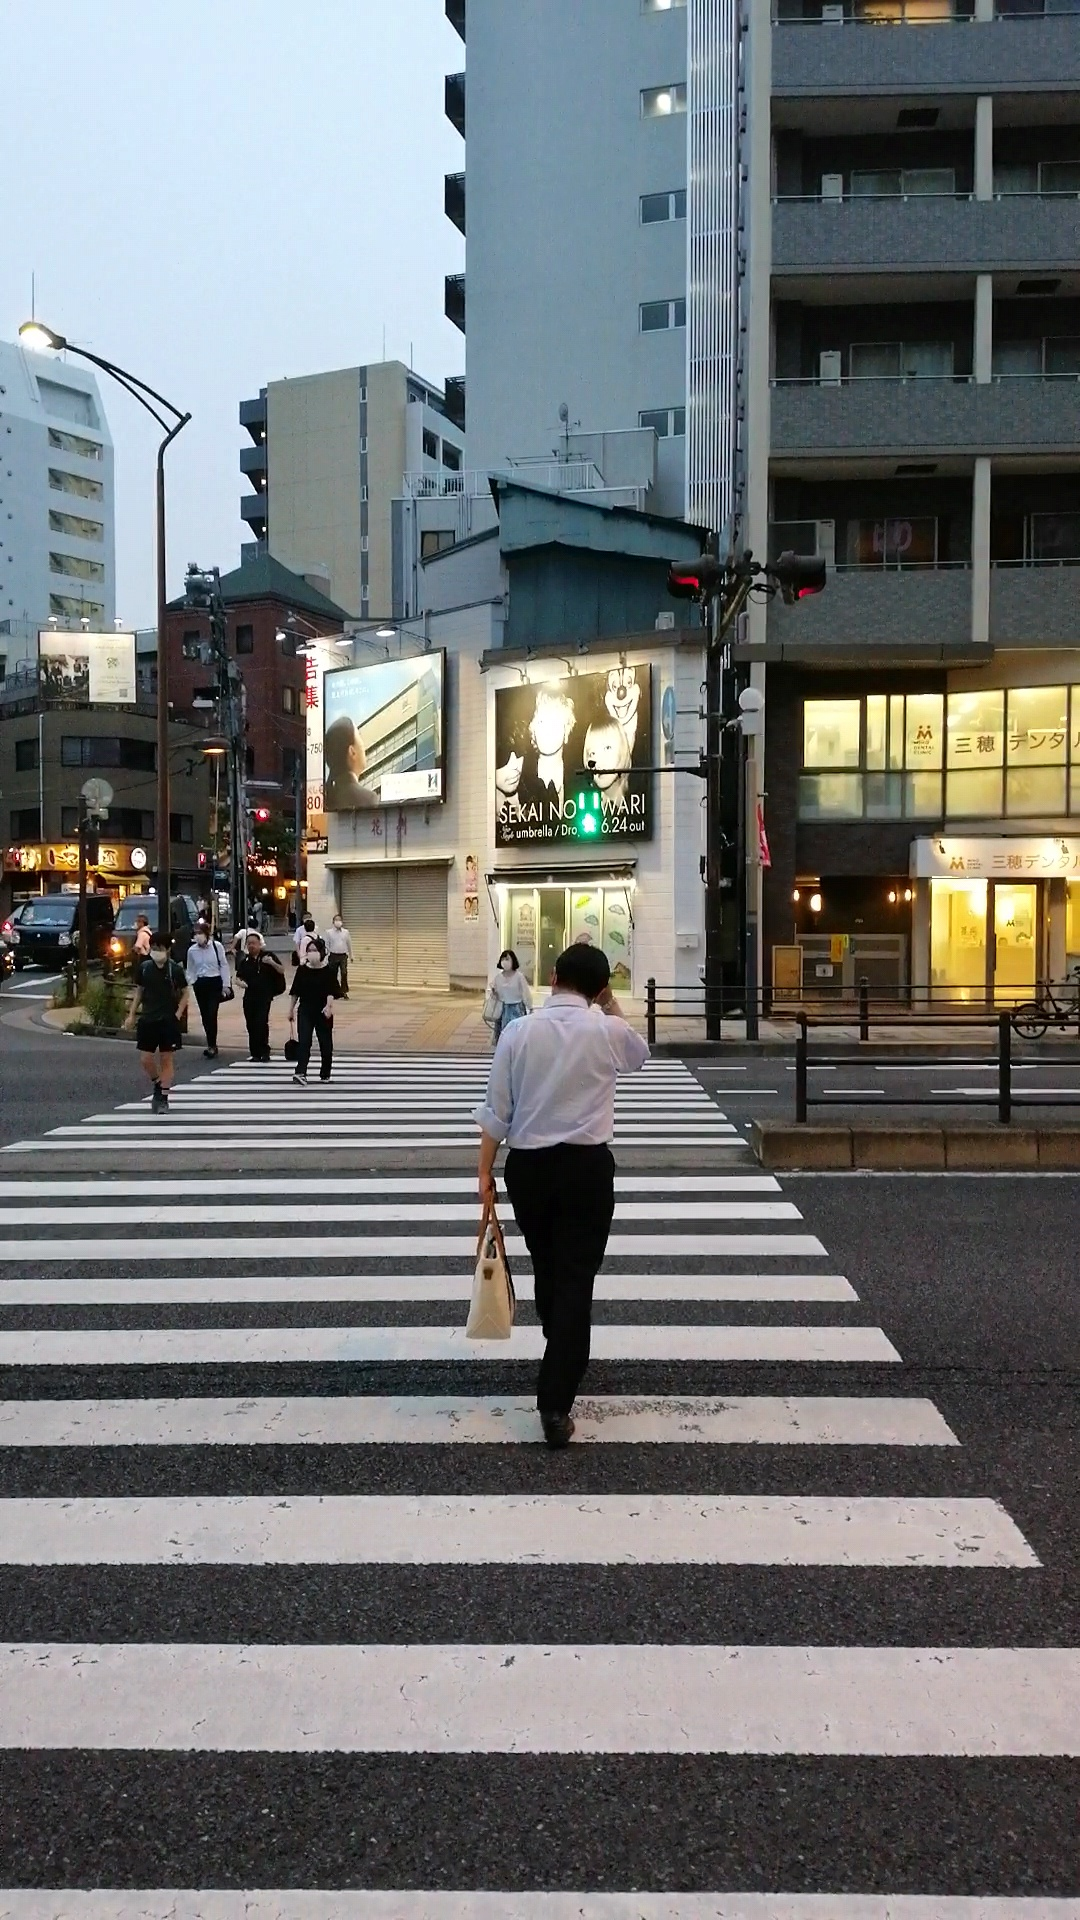green: (574, 787, 603, 837)
